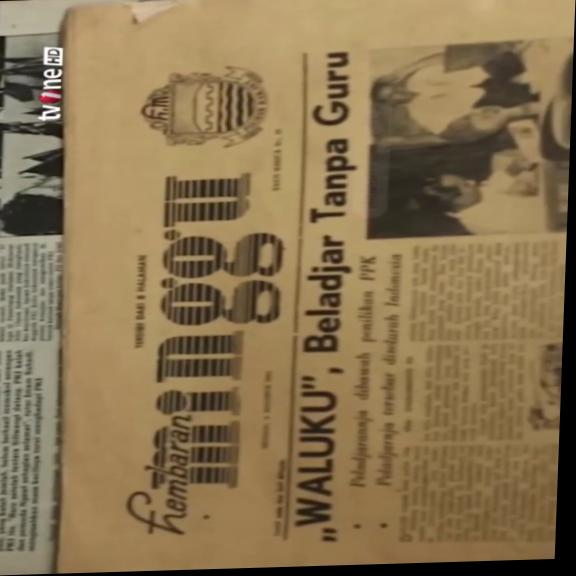Kertas: (52, 0, 576, 574)
